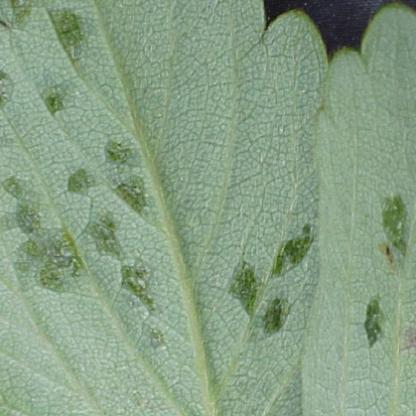Strawberry_Angular_LeafSpot: (0, 0, 330, 416), (299, 0, 415, 415)
